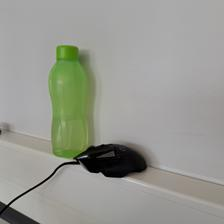bottle: (46, 45, 91, 160)
mouse: (73, 142, 147, 178)
